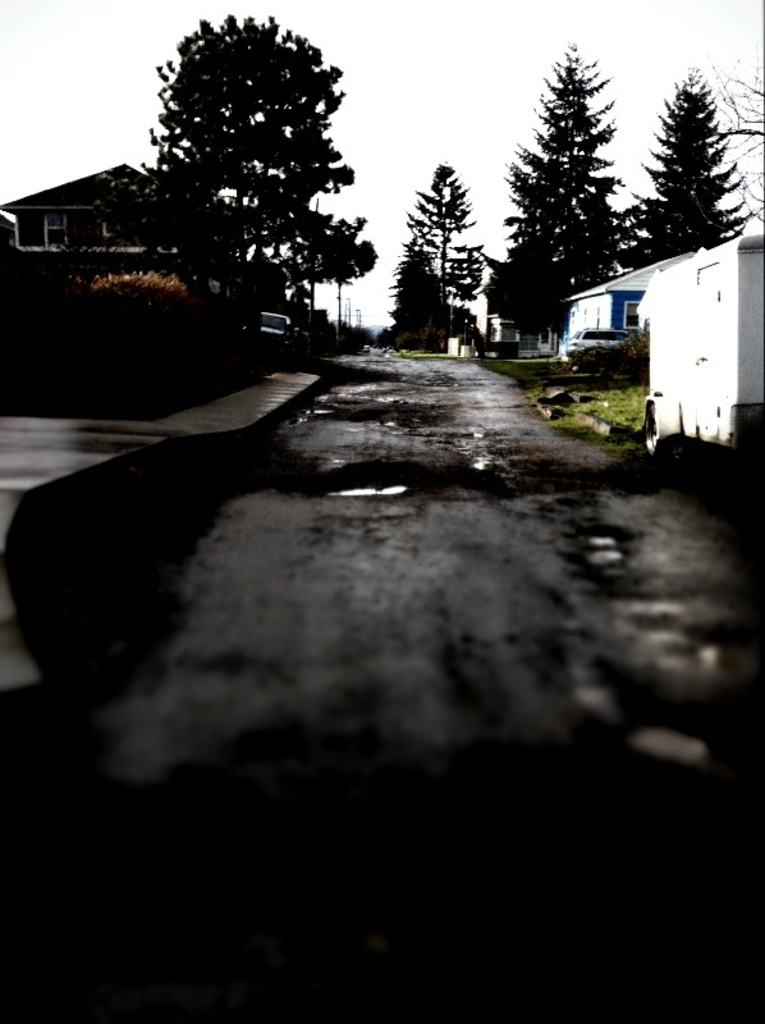Tree: (101, 0, 391, 346), (500, 42, 625, 354), (619, 67, 754, 270), (400, 162, 489, 358), (697, 53, 763, 232)
